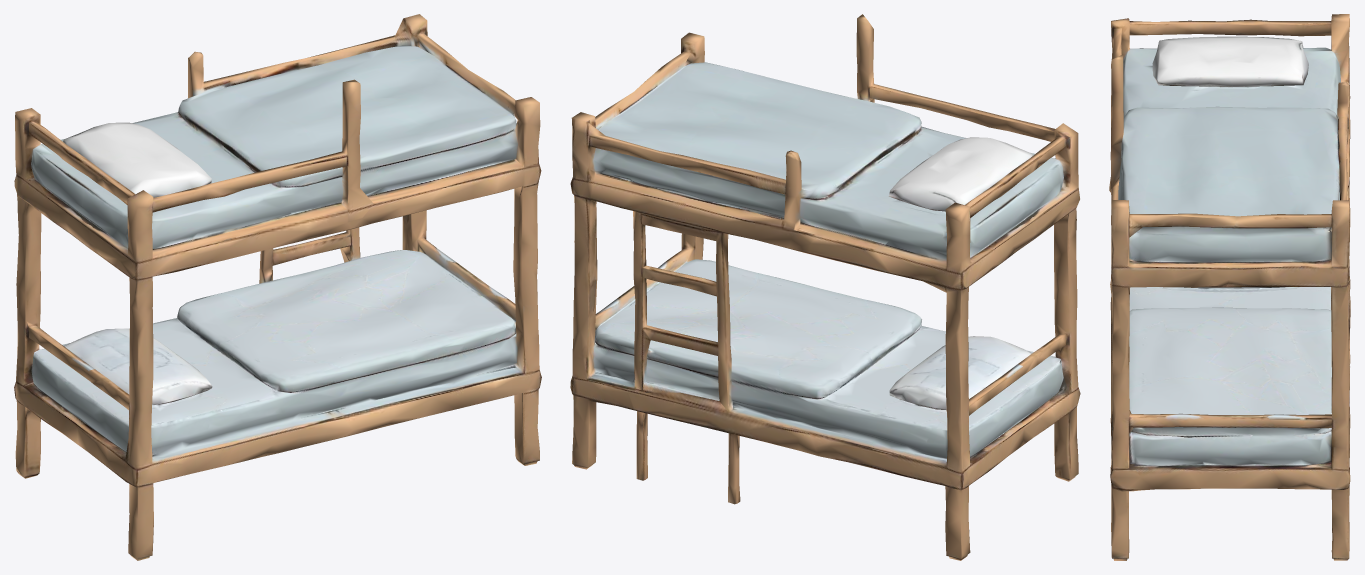
Rendered from bed_bunk.glb.
The picture shows the model from 3 angles, left to right: view 1: azimuth 30°, elevation 25°; view 2: azimuth 150°, elevation 25°; view 3: azimuth 270°, elevation 25°; orthographic projection. The views are drawn at different scales.
Visible parts, largest first — view 1: tripo_node_e08ca5b7-c4ca-4d21-99d3-e63f6ccfa0b0; view 2: tripo_node_e08ca5b7-c4ca-4d21-99d3-e63f6ccfa0b0; view 3: tripo_node_e08ca5b7-c4ca-4d21-99d3-e63f6ccfa0b0.
Part boxes in pixels (box(x1,y1,x2,y2)): tripo_node_e08ca5b7-c4ca-4d21-99d3-e63f6ccfa0b0: box(14, 14, 541, 560); tripo_node_e08ca5b7-c4ca-4d21-99d3-e63f6ccfa0b0: box(570, 14, 1080, 560); tripo_node_e08ca5b7-c4ca-4d21-99d3-e63f6ccfa0b0: box(1109, 14, 1350, 560).
Bounding box in the file's own units: 1 × 0.9951 × 0.5228.
Materials: 1 (1 with a texture image).
